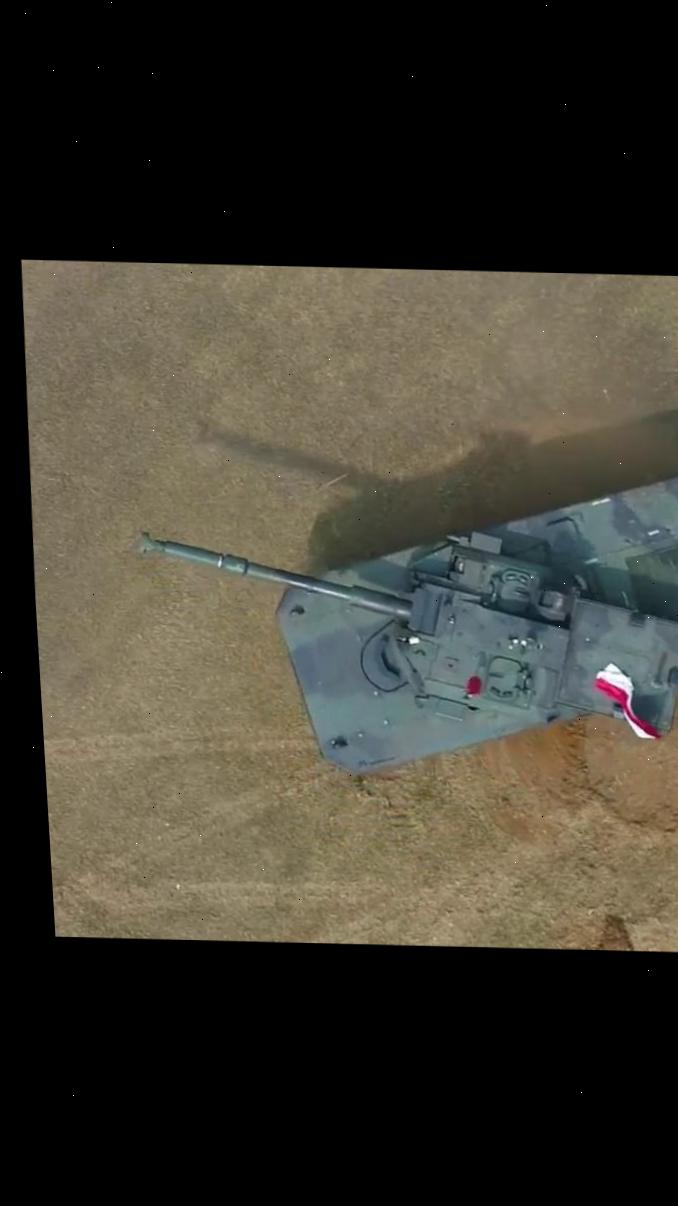tank: (124, 452, 678, 782)
